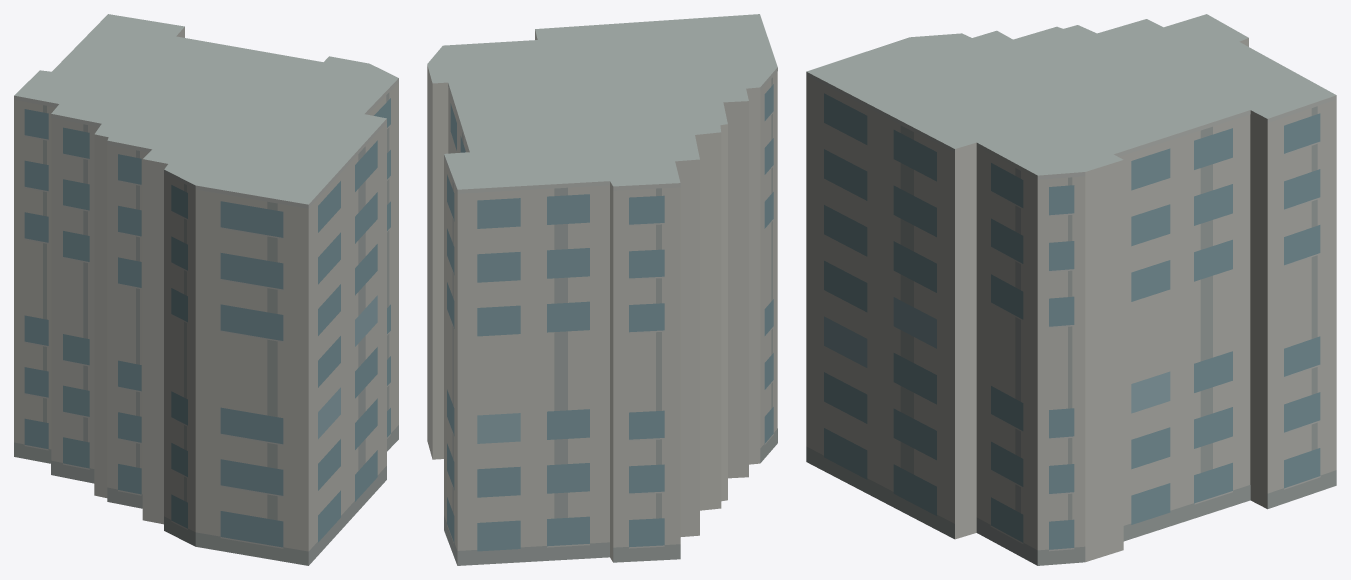
Rendered from survey-upis-32841383.glb.
The picture shows the model from 3 angles, left to right: view 1: azimuth 30°, elevation 25°; view 2: azimuth 150°, elevation 25°; view 3: azimuth 270°, elevation 25°; orthographic projection. The views are drawn at different scales.
Visible parts, largest first — view 1: survey-upis-32841383.tmp; view 2: survey-upis-32841383.tmp; view 3: survey-upis-32841383.tmp.
Boxes of the visible parts, x1,y1,x2,y2 form: survey-upis-32841383.tmp: (14,14,398,565); survey-upis-32841383.tmp: (427,14,777,565); survey-upis-32841383.tmp: (806,14,1336,565).
Size of the model in its own units: 19.19 by 21.6 by 26.61.
